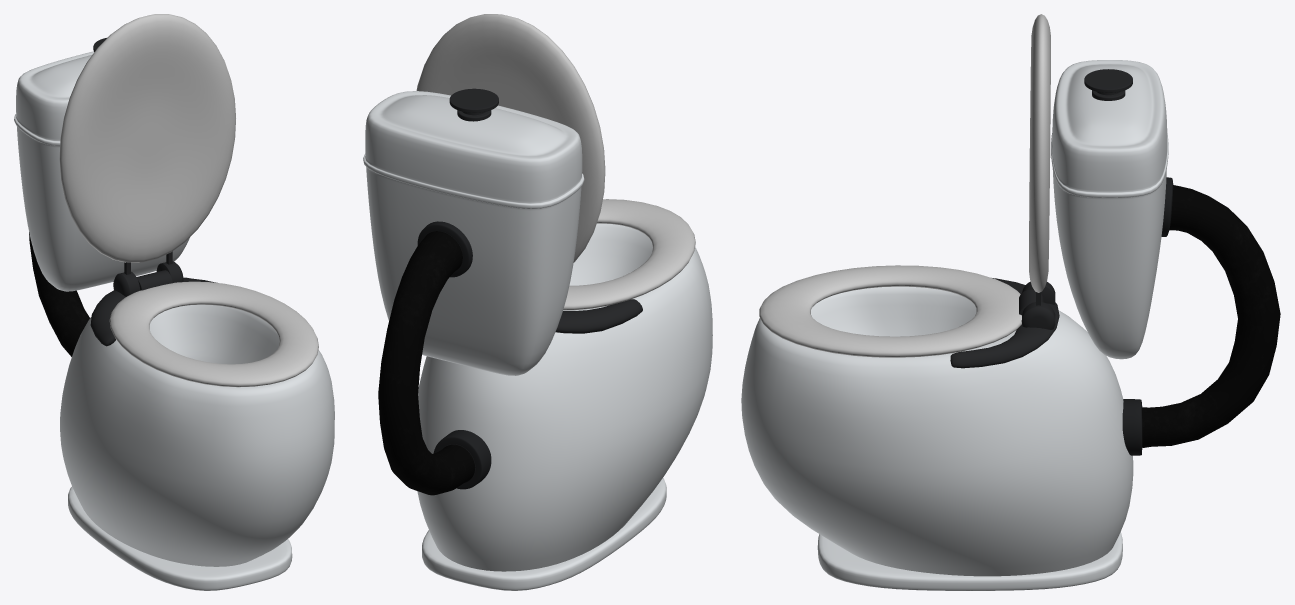
The picture shows the model from 3 angles, left to right: view 1: azimuth 30°, elevation 25°; view 2: azimuth 150°, elevation 25°; view 3: azimuth 270°, elevation 25°; orthographic projection. The views are drawn at different scales.
Parts seen in each view (by area): view 1: Toilet, Toilet_Lid, Water_Tank, Toilet_Seat, Foot, Pipe, Attachment_1, Hinge_1, Hinge_2; view 2: Toilet, Water_Tank, Toilet_Lid, Pipe, Toilet_Seat, Foot, Attachment_1, Button; view 3: Toilet, Water_Tank, Pipe, Toilet_Seat, Foot, Toilet_Lid, Attachment_1, Button, Hinge_1.
Part boxes in pixels (x1=…): Toilet: x1=60, y1=304, x2=334, y2=566; Toilet_Lid: x1=59, y1=14, x2=235, y2=262; Water_Tank: x1=14, y1=51, x2=189, y2=291; Toilet_Seat: x1=109, y1=281, x2=318, y2=387; Foot: x1=68, y1=486, x2=292, y2=590; Pipe: x1=29, y1=232, x2=89, y2=356; Attachment_1: x1=90, y1=277, x2=217, y2=346; Hinge_1: x1=113, y1=261, x2=183, y2=296; Hinge_2: x1=136, y1=270, x2=172, y2=290; Toilet: x1=417, y1=223, x2=712, y2=571; Water_Tank: x1=363, y1=91, x2=584, y2=375; Toilet_Lid: x1=416, y1=14, x2=605, y2=262; Pipe: x1=378, y1=221, x2=491, y2=495; Toilet_Seat: x1=563, y1=199, x2=695, y2=310; Foot: x1=422, y1=478, x2=666, y2=590; Attachment_1: x1=555, y1=299, x2=642, y2=333; Button: x1=449, y1=88, x2=498, y2=121; Toilet: x1=741, y1=286, x2=1133, y2=576; Water_Tank: x1=1051, y1=60, x2=1168, y2=359; Pipe: x1=1122, y1=177, x2=1280, y2=455; Toilet_Seat: x1=759, y1=265, x2=1021, y2=357; Foot: x1=817, y1=532, x2=1122, y2=590; Toilet_Lid: x1=1029, y1=14, x2=1050, y2=292; Attachment_1: x1=950, y1=278, x2=1059, y2=368; Button: x1=1084, y1=69, x2=1132, y2=100; Hinge_1: x1=1021, y1=281, x2=1055, y2=329.
Size of the model in its own units: 0.5294 by 1.19 by 1.09.
Materials: 4 (4 with a texture image).
